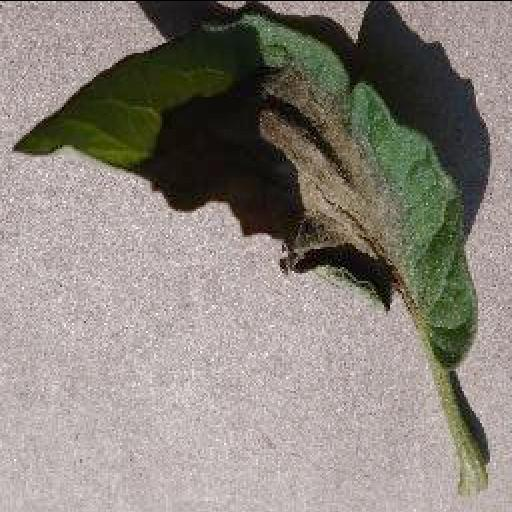disease_tomato: (10, 10, 478, 376)
